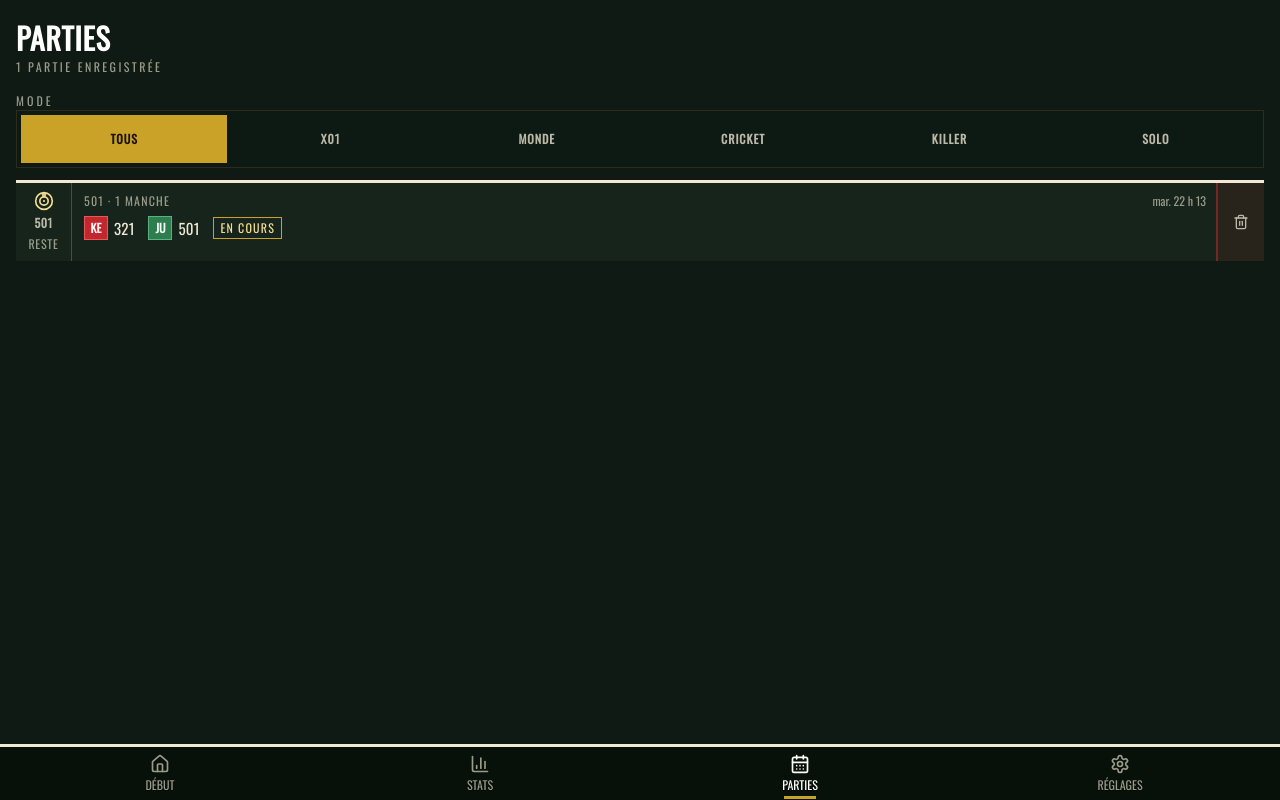
Scenario: Écran Parties › liste les parties, leur statut, et en supprime une
expect the text "En cours" is shown: met, box [214,217,282,239]
expect the text "Reprendre" is not shown: met
Click the button named "Supprimer la partie": {"x": 1240, "y": 222} [1216,183,1264,261]
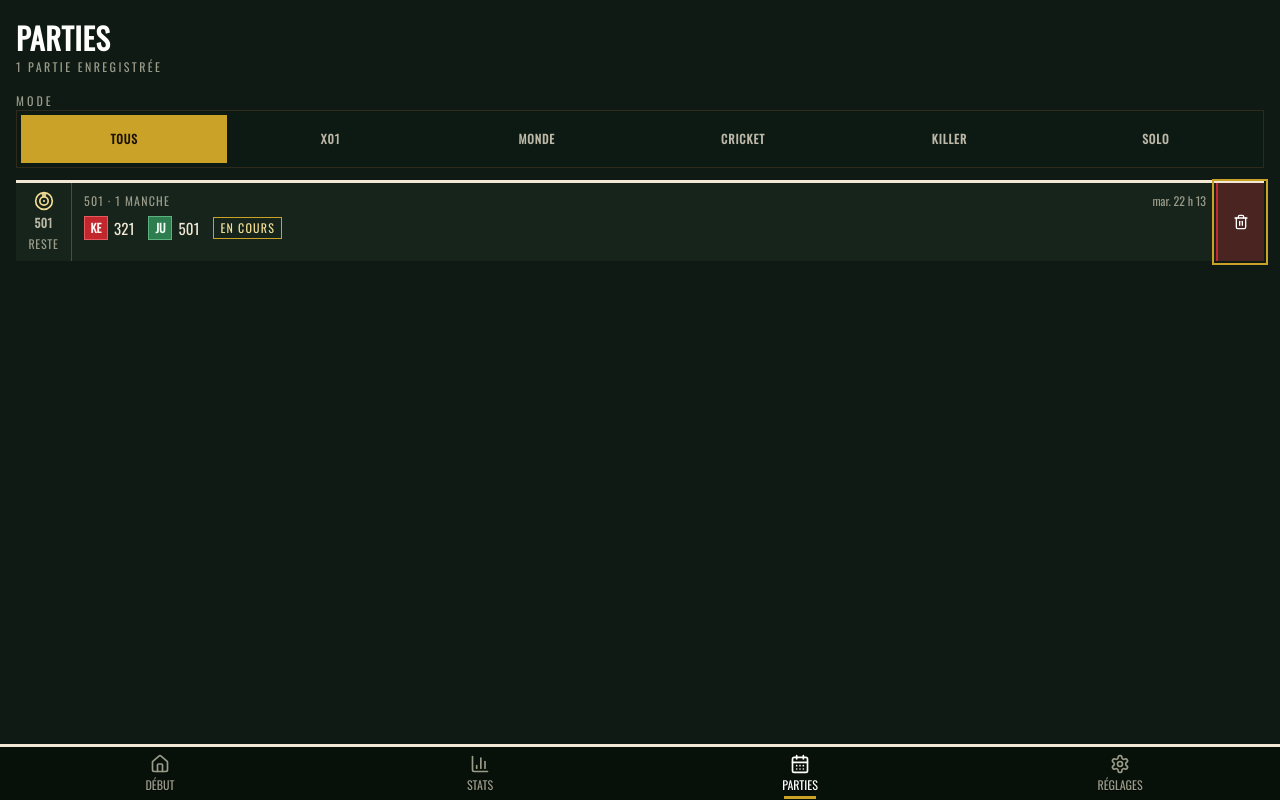
Click the button named "Confirmer la suppression de la partie": {"x": 1240, "y": 222} [1216,183,1264,261]
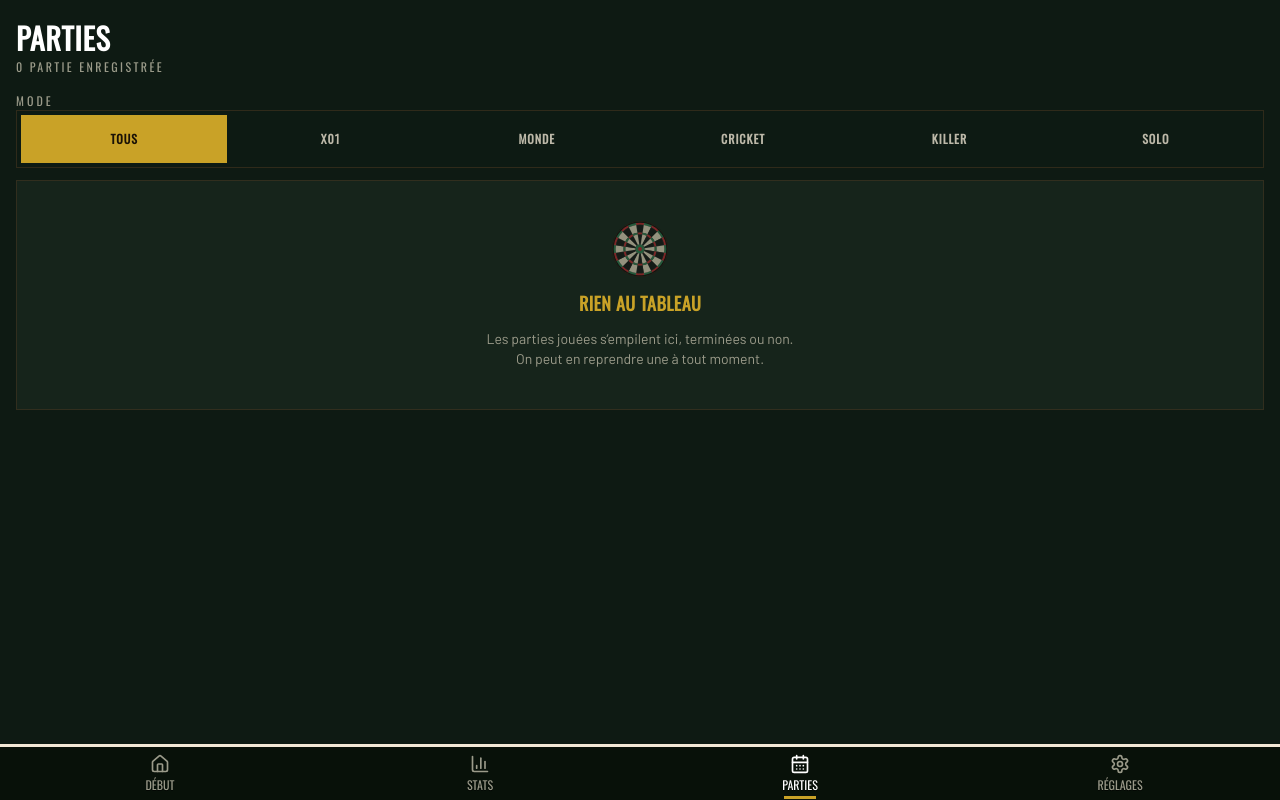
expect the text "Rien au tableau" is shown: met, box [579,289,701,317]
